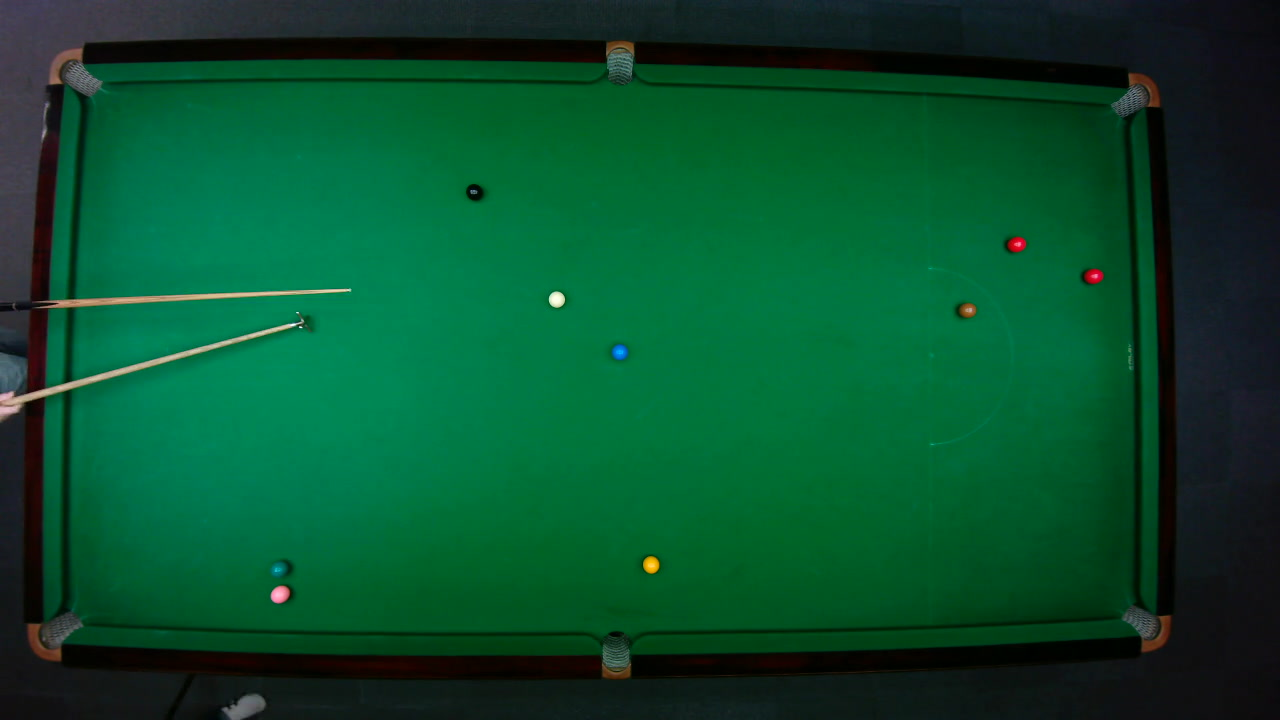bag: (26, 609, 84, 661), (46, 47, 102, 96), (1119, 603, 1171, 651), (1108, 72, 1160, 118), (601, 629, 630, 680), (605, 39, 633, 85)
black: (465, 183, 482, 200)
blue: (610, 343, 628, 360)
brown: (956, 301, 977, 317)
cue: (0, 287, 354, 310)
green: (268, 558, 289, 577)
pink: (269, 583, 291, 604)
red: (1082, 267, 1105, 284), (1005, 235, 1027, 252)
white: (546, 290, 565, 308)
yellow: (641, 554, 661, 574)
zone: (927, 264, 1014, 445)
